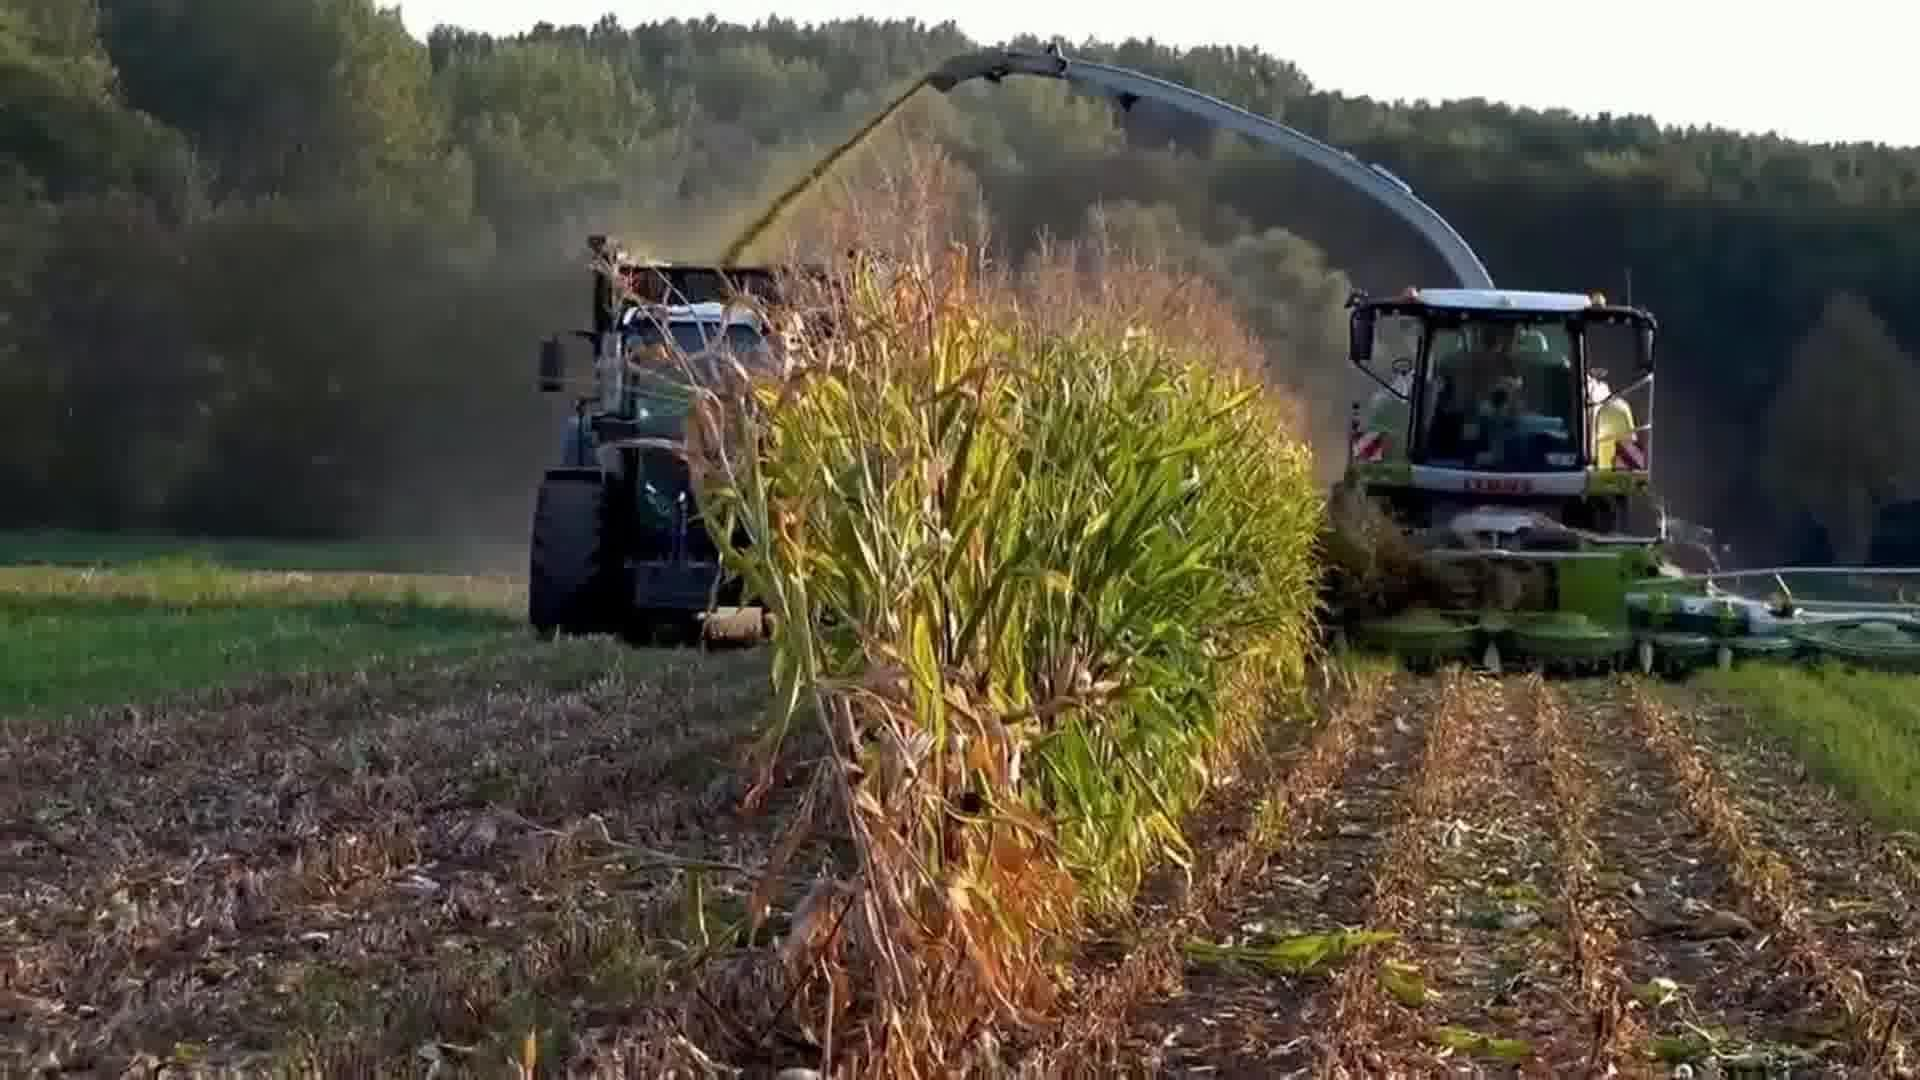combine harvester: (927, 33, 1920, 692)
tractor: (527, 294, 893, 665)
